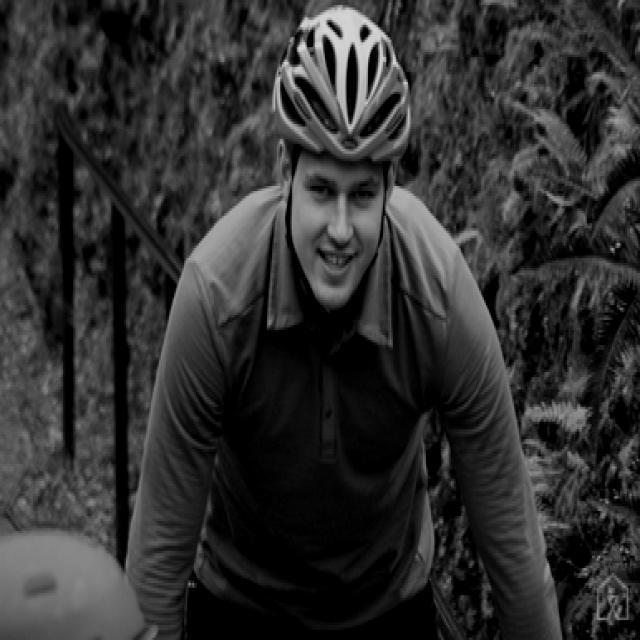Helmet: (270, 2, 414, 318)
